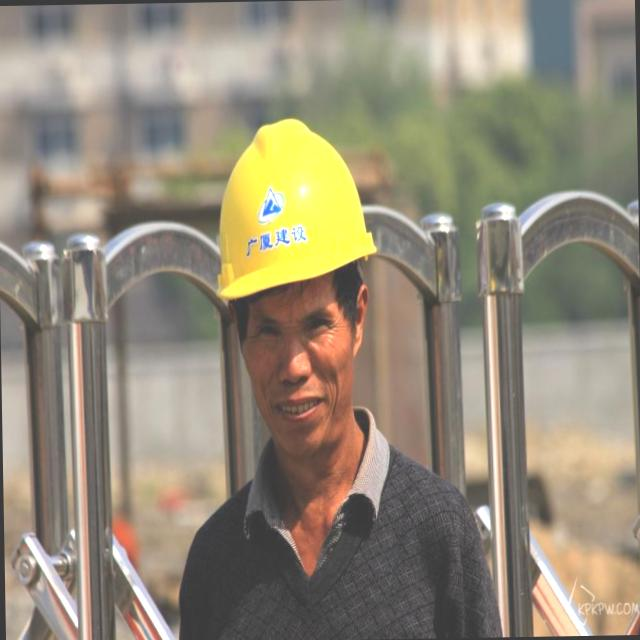helmet: (205, 115, 378, 325)
no-goggles: (209, 293, 380, 362)
no-vest: (174, 433, 479, 640)
